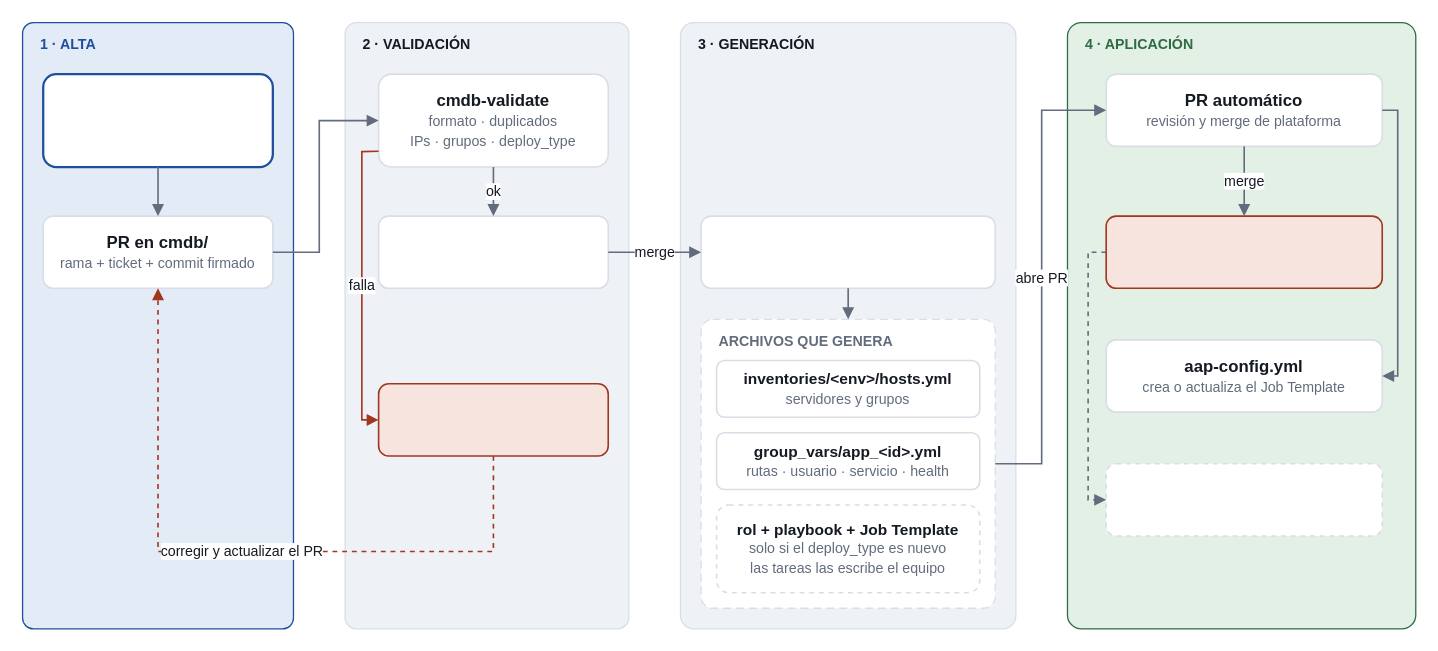
The diagram is 1438 pixels wide and 651 high, and some of its shapes have lost their labels. The shapes that lost their labels are listed below. From the top down, each one's centre as x and y in pixels, then its label:
At (157,120): "Hoja de alta pestaña servidores pestaña aplicaciones".
At (492,252): "Aprobación dueño de la CMDB + plataforma".
At (847,252): "cmdb-generate al hacer merge del PR".
At (1243,252): "AAP sincroniza proyecto e inventarios".
At (492,419): "Errores por fila comentario en el PR".
At (1243,499): "onboard-server.yml solo si hay servidores nuevos".
